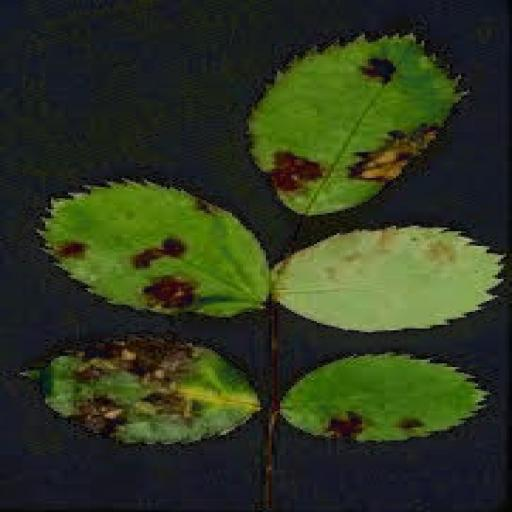downy_mildew: (249, 35, 461, 214), (43, 182, 268, 317), (26, 336, 260, 444), (275, 226, 500, 332), (281, 355, 486, 440)
